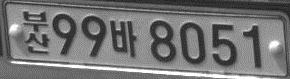0: (179, 21, 205, 64)
1: (240, 24, 266, 68)
5: (211, 22, 237, 66)
8: (149, 18, 176, 62)
9: (80, 15, 106, 58), (52, 13, 76, 55)
바: (109, 20, 138, 58)
부산_V: (22, 10, 49, 53)
